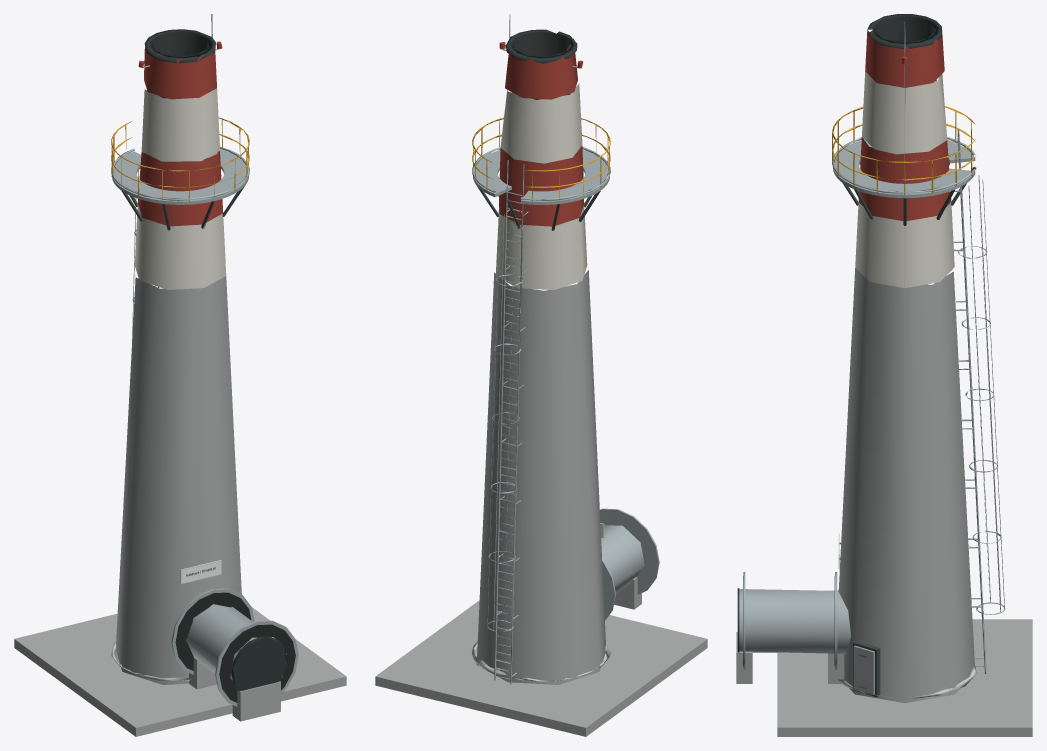
The model's file is industrial-chimney.glb.
3 views of the same model, side by side, from view 1: azimuth 30°, elevation 25°; view 2: azimuth 150°, elevation 25°; view 3: azimuth 270°, elevation 25° (orthographic). The views are drawn at different scales.
Visible parts, largest first — view 1: tapered_chimney_stack_cast-concrete, industrial-chimney_cast-concrete, tapered_chimney_stack_off-white-painted, tapered_chimney_stack_fire-protection-red, industrial-chimney_galvanized-steel, industrial-chimney_rubber-gaskets, industrial-chimney_brushed-metal-panels, industrial-chimney_dark-service-metal, industrial-chimney_safety-yellow, tapered_chimney_stack_chimney-internal-liner, tapered_chimney_stack_dark-service-metal; view 2: tapered_chimney_stack_cast-concrete, industrial-chimney_cast-concrete, industrial-chimney_galvanized-steel, tapered_chimney_stack_off-white-painted, tapered_chimney_stack_fire-protection-red, industrial-chimney_brushed-metal-panels, tapered_chimney_stack_chimney-internal-liner, industrial-chimney_safety-yellow, tapered_chimney_stack_dark-service-metal; view 3: tapered_chimney_stack_cast-concrete, industrial-chimney_cast-concrete, tapered_chimney_stack_off-white-painted, industrial-chimney_galvanized-steel, tapered_chimney_stack_fire-protection-red, industrial-chimney_brushed-metal-panels, industrial-chimney_safety-yellow, tapered_chimney_stack_dark-service-metal, industrial-chimney_powder-coated-frame, tapered_chimney_stack_chimney-internal-liner, tapered_chimney_stack_light-precast-concrete.
Boxes of the visible parts, x1=… form: tapered_chimney_stack_cast-concrete: x1=116, y1=276, x2=241, y2=684; industrial-chimney_cast-concrete: x1=14, y1=607, x2=346, y2=736; tapered_chimney_stack_off-white-painted: x1=134, y1=88, x2=226, y2=289; tapered_chimney_stack_fire-protection-red: x1=137, y1=46, x2=223, y2=226; industrial-chimney_galvanized-steel: x1=111, y1=14, x2=298, y2=706; industrial-chimney_rubber-gaskets: x1=175, y1=592, x2=295, y2=702; industrial-chimney_brushed-metal-panels: x1=186, y1=604, x2=286, y2=680; industrial-chimney_dark-service-metal: x1=231, y1=636, x2=287, y2=691; industrial-chimney_safety-yellow: x1=111, y1=117, x2=249, y2=201; tapered_chimney_stack_chimney-internal-liner: x1=151, y1=32, x2=209, y2=98; tapered_chimney_stack_dark-service-metal: x1=144, y1=29, x2=215, y2=63; tapered_chimney_stack_cast-concrete: x1=476, y1=270, x2=605, y2=684; industrial-chimney_cast-concrete: x1=375, y1=577, x2=707, y2=736; industrial-chimney_galvanized-steel: x1=472, y1=14, x2=659, y2=684; tapered_chimney_stack_off-white-painted: x1=495, y1=83, x2=587, y2=289; tapered_chimney_stack_fire-protection-red: x1=498, y1=38, x2=584, y2=226; industrial-chimney_brushed-metal-panels: x1=601, y1=525, x2=644, y2=593; tapered_chimney_stack_chimney-internal-liner: x1=512, y1=32, x2=570, y2=99; industrial-chimney_safety-yellow: x1=472, y1=117, x2=610, y2=201; tapered_chimney_stack_dark-service-metal: x1=505, y1=29, x2=577, y2=63; tapered_chimney_stack_cast-concrete: x1=838, y1=268, x2=974, y2=703; industrial-chimney_cast-concrete: x1=736, y1=619, x2=1032, y2=736; tapered_chimney_stack_off-white-painted: x1=855, y1=71, x2=954, y2=287; industrial-chimney_galvanized-steel: x1=743, y1=22, x2=1005, y2=694; tapered_chimney_stack_fire-protection-red: x1=858, y1=30, x2=951, y2=220; industrial-chimney_brushed-metal-panels: x1=739, y1=589, x2=851, y2=653; industrial-chimney_safety-yellow: x1=832, y1=106, x2=975, y2=195; tapered_chimney_stack_dark-service-metal: x1=867, y1=14, x2=941, y2=49; industrial-chimney_powder-coated-frame: x1=839, y1=162, x2=976, y2=697; tapered_chimney_stack_chimney-internal-liner: x1=873, y1=16, x2=936, y2=80; tapered_chimney_stack_light-precast-concrete: x1=836, y1=667, x2=976, y2=698.
Bounding box in the file's own units: 7.8 × 22.8 × 9.05.
3 materials, 3 textured.
